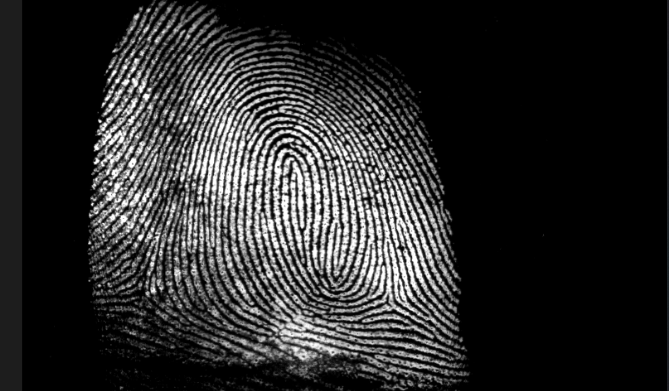nucelo: (270, 147, 307, 189)
verticilo: (123, 273, 156, 303), (373, 284, 402, 316)
